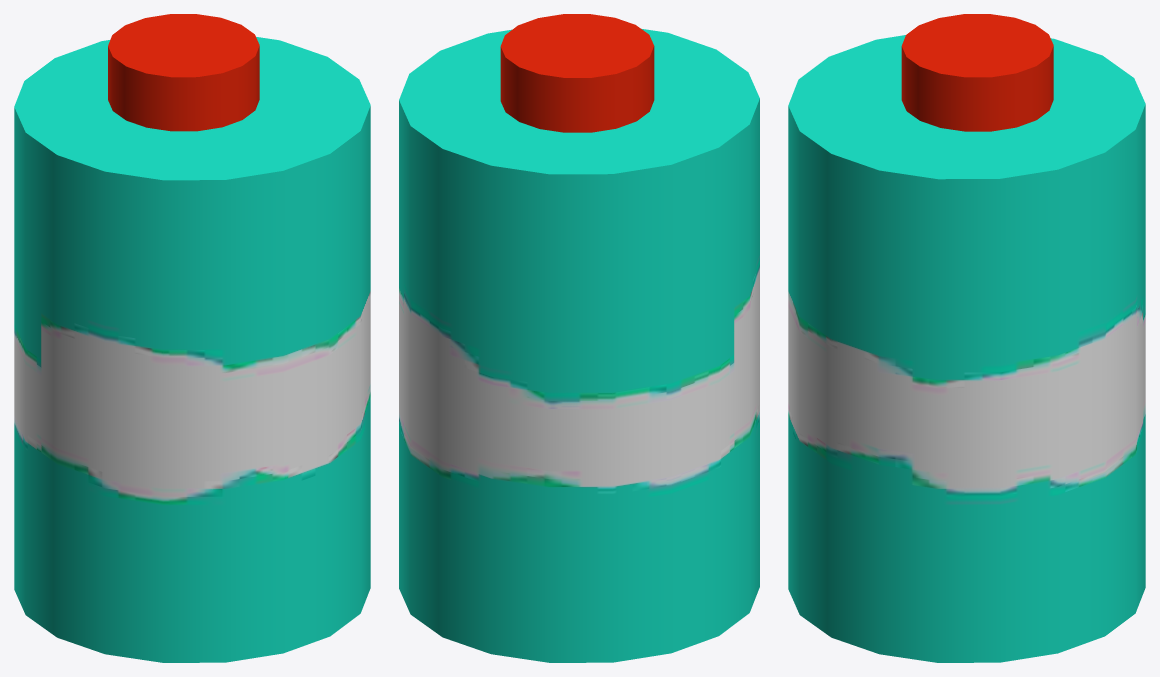
File: Bulegas.FBX
The picture shows the model from 3 angles, left to right: view 1: azimuth 30°, elevation 25°; view 2: azimuth 150°, elevation 25°; view 3: azimuth 270°, elevation 25°; orthographic projection.
Visible parts, largest first — view 1: Cylinder146, Cylinder147; view 2: Cylinder146, Cylinder147; view 3: Cylinder146, Cylinder147.
Part boxes in pixels (<box>): Cylinder146: <box>14,37,370,662</box>; Cylinder147: <box>108,14,259,131</box>; Cylinder146: <box>399,29,759,662</box>; Cylinder147: <box>500,14,654,132</box>; Cylinder146: <box>788,35,1145,662</box>; Cylinder147: <box>901,14,1053,131</box>.
Size of the model in its own units: 8.17 by 8.28 by 13.83.
2 materials, 2 textured.
